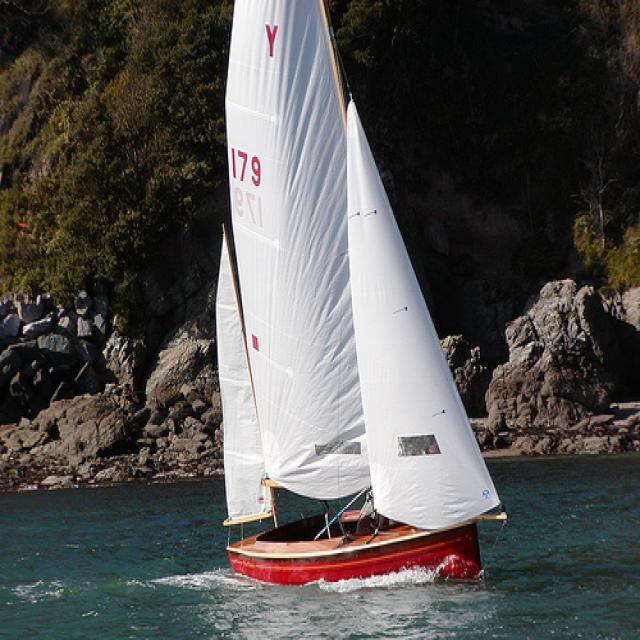Ship: (214, 1, 496, 593)
